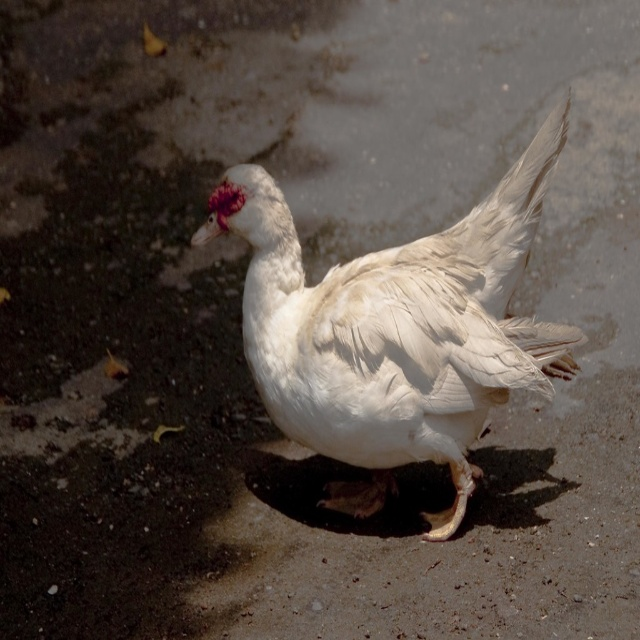Goose: (188, 86, 586, 540)
